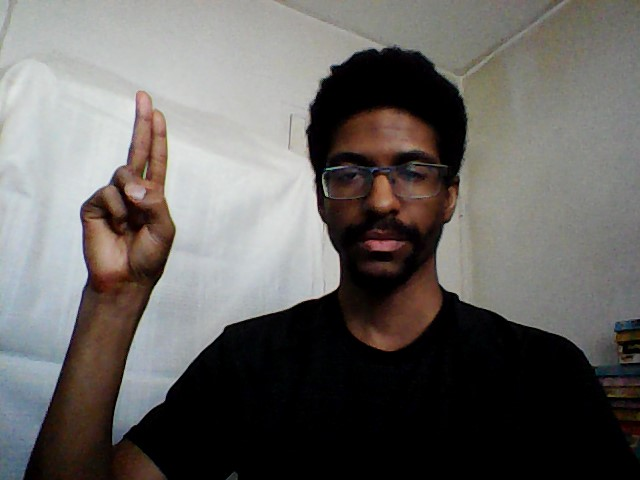u: (73, 86, 182, 296)
